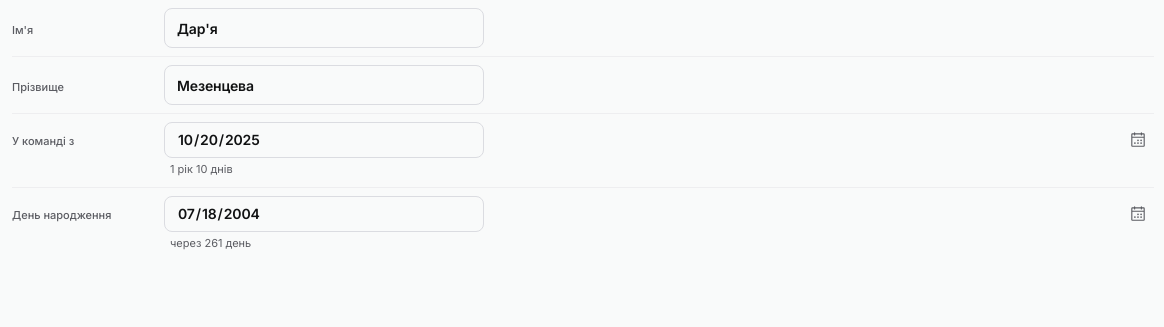
it: дані людини в картці › «Скасувати» повертає поля до збереженого
Type "-тест" into the field named "Ім'я" at (324, 28), box [164, 8, 484, 48]
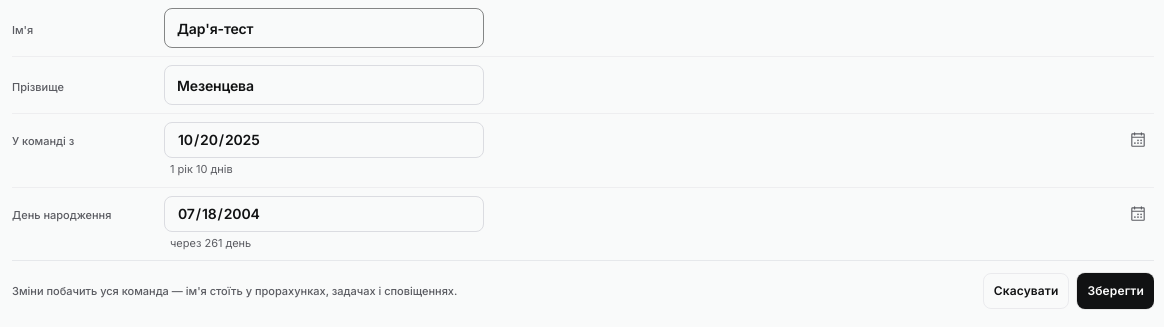
Click the button "Скасувати" at (1026, 291), box [983, 273, 1070, 309]
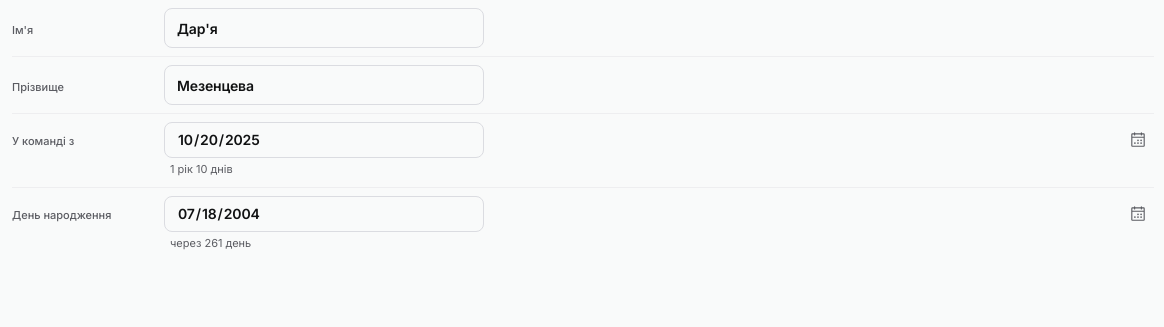
Now the field named "Ім'я" holds "Дар'я", box [164, 8, 484, 48]
